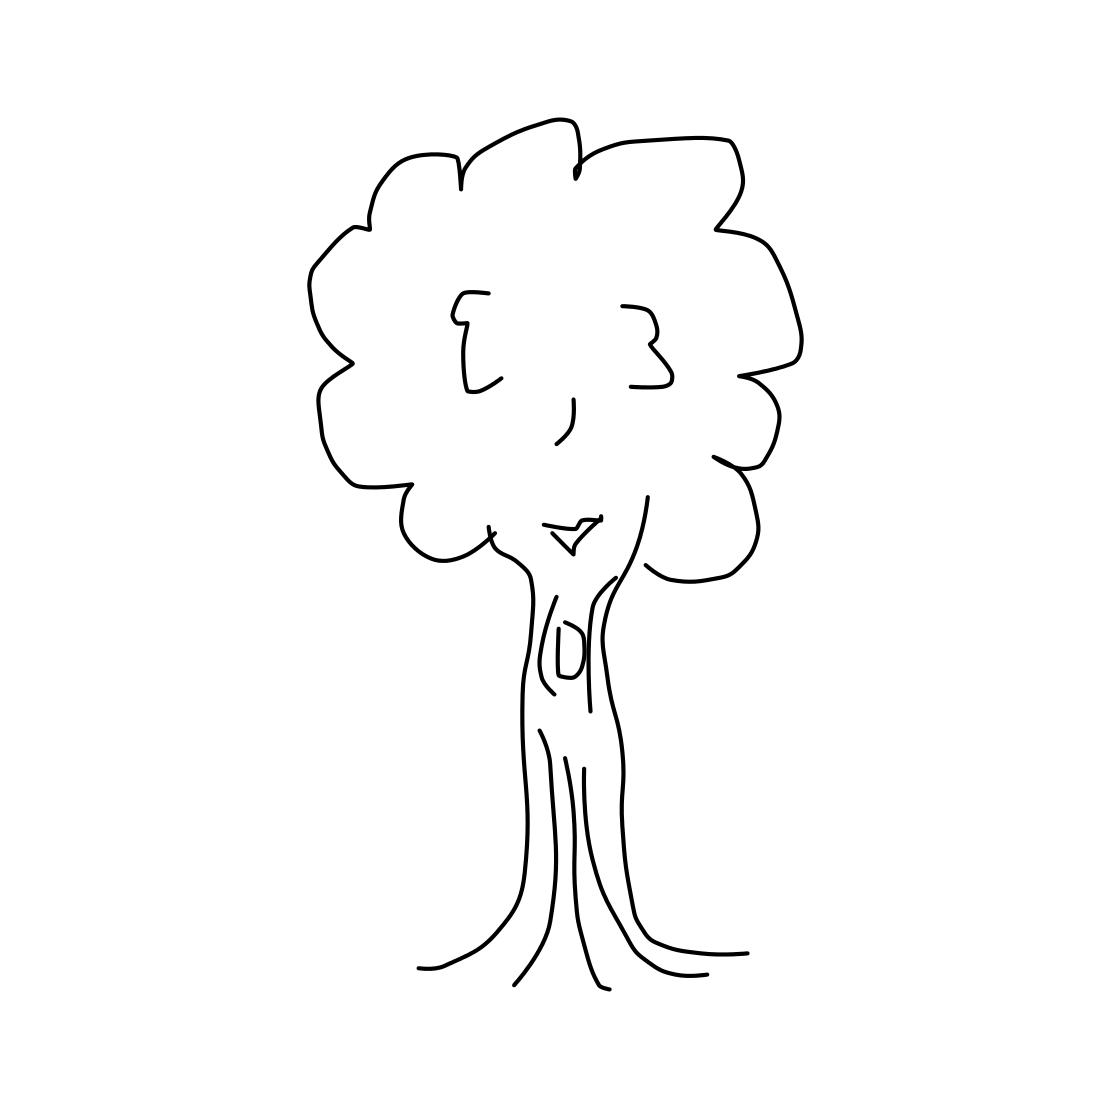Tree: (261, 102, 845, 994)
